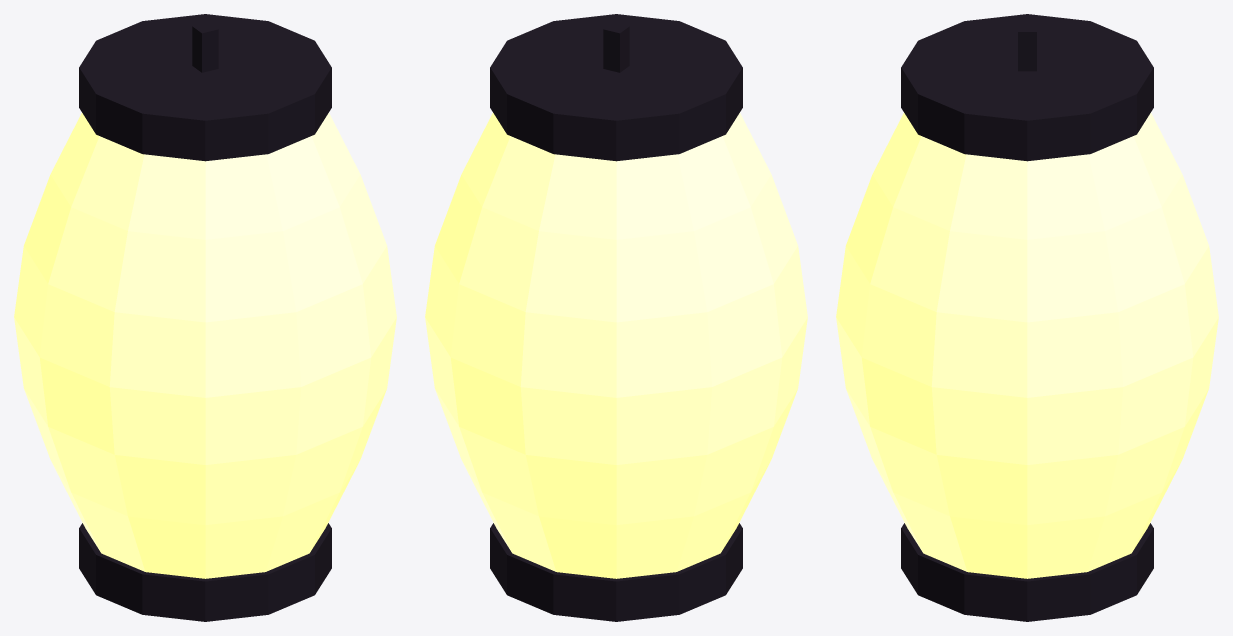
The model's file is paper_lantern.glb.
The picture shows the model from 3 angles, left to right: view 1: azimuth 30°, elevation 25°; view 2: azimuth 150°, elevation 25°; view 3: azimuth 270°, elevation 25°; orthographic projection.
Visible parts, largest first — view 1: paper_lantern; view 2: paper_lantern; view 3: paper_lantern.
Part boxes in pixels (left/top/right/bottom): paper_lantern: left=14, top=14, right=396, bottom=621; paper_lantern: left=425, top=14, right=807, bottom=621; paper_lantern: left=836, top=14, right=1218, bottom=621.
Bounding box in the file's own units: 0.36 × 0.609 × 0.36.
